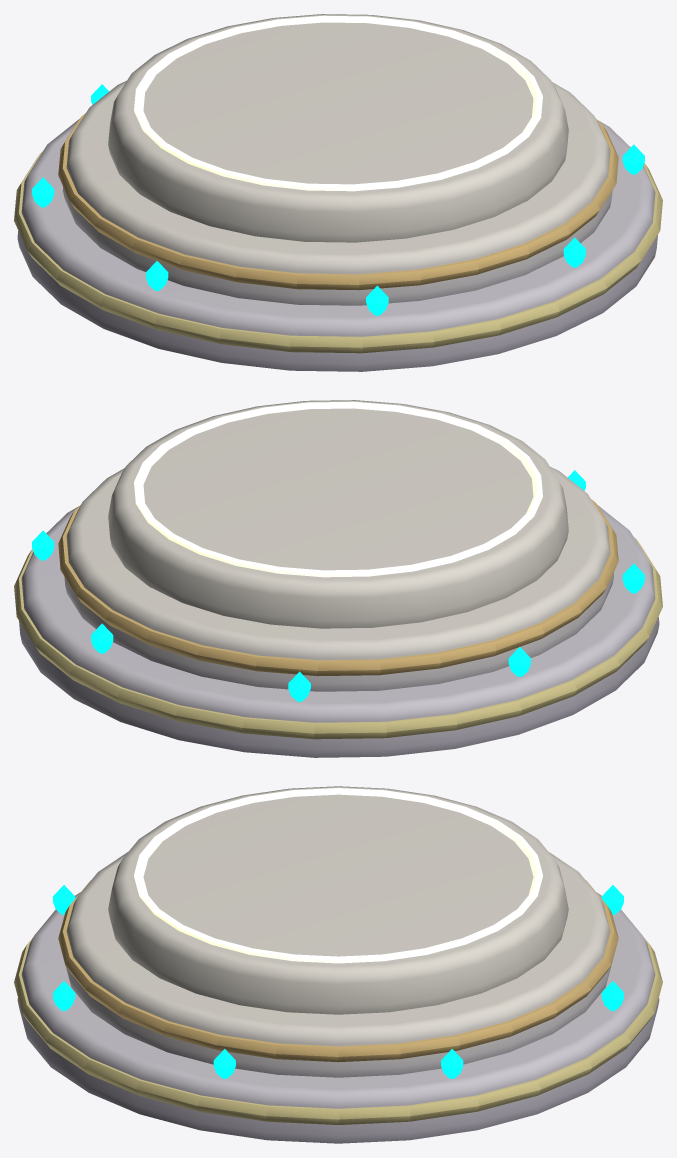
File: chestPedestal.glb
The picture shows the model from 3 angles, top to bottom: view 1: azimuth 30°, elevation 25°; view 2: azimuth 150°, elevation 25°; view 3: azimuth 270°, elevation 25°; orthographic projection.
Visible parts, largest first — view 1: Body, Glow_FFE066, Glow_00E5FF; view 2: Body, Glow_FFE066, Glow_00E5FF; view 3: Body, Glow_FFE066, Glow_00E5FF.
Boxes of the visible parts, bbox=[...] form: Body: bbox=[14, 14, 662, 371]; Glow_FFE066: bbox=[134, 15, 542, 191]; Glow_00E5FF: bbox=[32, 84, 644, 315]; Body: bbox=[14, 400, 662, 757]; Glow_FFE066: bbox=[134, 401, 542, 577]; Glow_00E5FF: bbox=[32, 470, 644, 701]; Body: bbox=[14, 786, 662, 1143]; Glow_FFE066: bbox=[134, 788, 542, 963]; Glow_00E5FF: bbox=[53, 885, 623, 1078].
Size of the model in its own units: 20.1 by 4.75 by 20.1.
